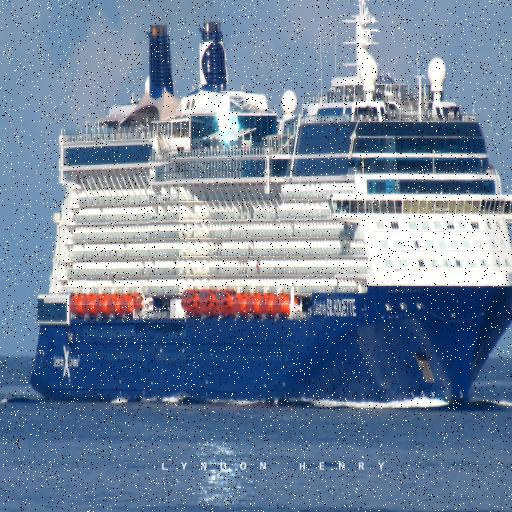cruises: (29, 1, 512, 423)
